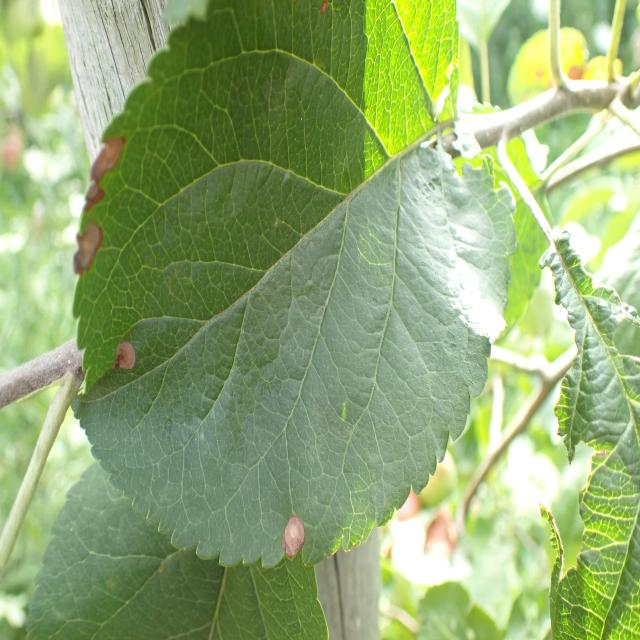Black Rot: (70, 102, 123, 282), (269, 507, 320, 575), (108, 322, 139, 405), (299, 0, 335, 25)
